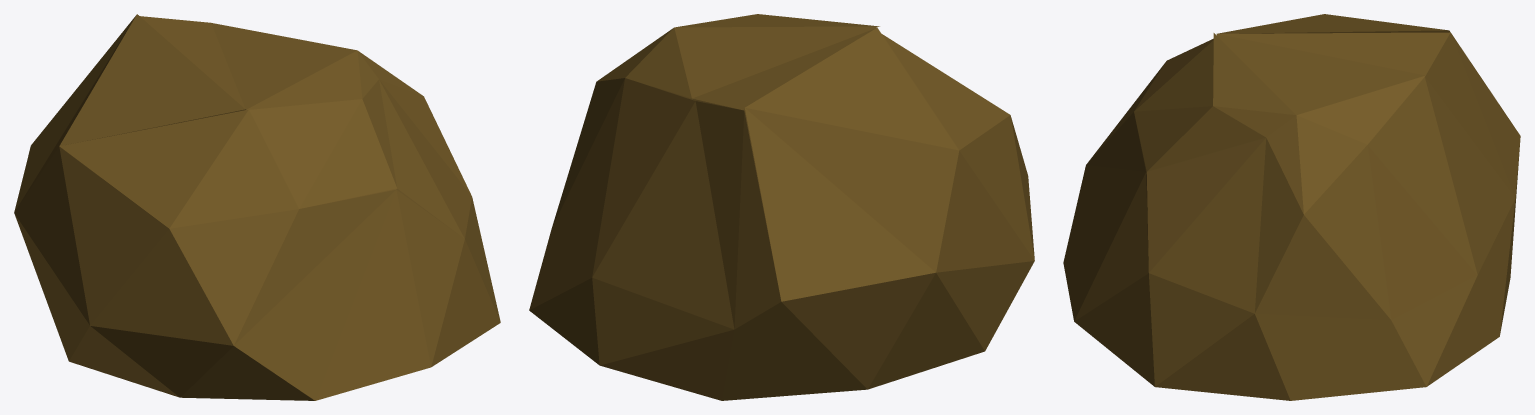
File: Rock.fbx
The picture shows the model from 3 angles, left to right: view 1: azimuth 30°, elevation 25°; view 2: azimuth 150°, elevation 25°; view 3: azimuth 270°, elevation 25°; orthographic projection. The views are drawn at different scales.
Parts seen in each view (by area): view 1: Icosphere; view 2: Icosphere; view 3: Icosphere.
Boxes of the visible parts, left/top/right/bottom form: Icosphere: left=14, top=14, right=500, bottom=400; Icosphere: left=529, top=14, right=1034, bottom=400; Icosphere: left=1063, top=14, right=1520, bottom=400.
Size of the model in its own units: 216 by 129 by 212.
